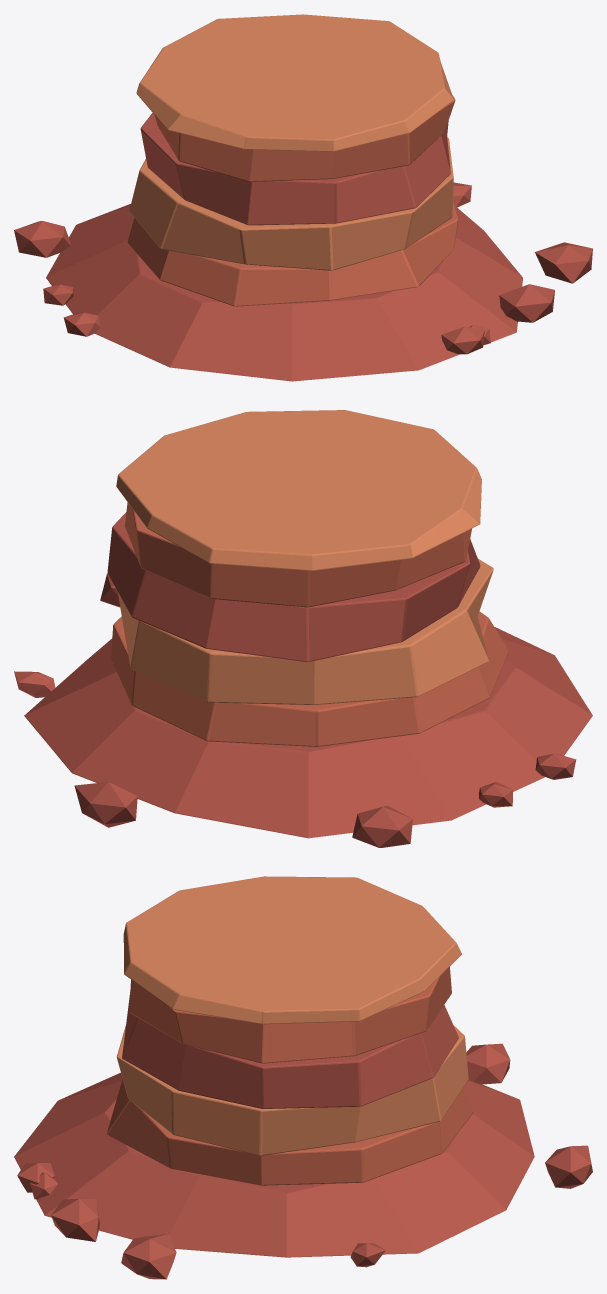
The model's file is mesa_a.glb.
3 views of the same model, one above another, from view 1: azimuth 30°, elevation 25°; view 2: azimuth 150°, elevation 25°; view 3: azimuth 270°, elevation 25° (orthographic). The views are drawn at different scales.
Parts seen in each view (by area): view 1: mesa_a_slope, mesa_a_cap, mesa_a_band1, mesa_a_band2, mesa_a_band0, mesa_a_band3, mesa_a_boulders; view 2: mesa_a_slope, mesa_a_cap, mesa_a_band1, mesa_a_band2, mesa_a_band0, mesa_a_band3, mesa_a_boulders; view 3: mesa_a_slope, mesa_a_cap, mesa_a_band2, mesa_a_band1, mesa_a_band0, mesa_a_band3, mesa_a_boulders.
Part boxes in pixels (box(x1,y1,x2,y2)): mesa_a_slope: box(46, 204, 522, 381); mesa_a_cap: box(136, 14, 453, 151); mesa_a_band1: box(129, 137, 453, 270); mesa_a_band2: box(140, 113, 450, 225); mesa_a_band0: box(127, 202, 458, 306); mesa_a_band3: box(154, 95, 455, 181); mesa_a_boulders: box(14, 182, 592, 354); mesa_a_slope: box(24, 627, 592, 838); mesa_a_cap: box(116, 410, 481, 570); mesa_a_band1: box(117, 559, 493, 704); mesa_a_band2: box(107, 512, 480, 662); mesa_a_band0: box(111, 611, 508, 746); mesa_a_band3: box(125, 502, 471, 607); mesa_a_boulders: box(14, 573, 576, 847); mesa_a_slope: box(14, 1072, 534, 1257); mesa_a_cap: box(123, 876, 461, 1024); mesa_a_band2: box(122, 990, 458, 1108); mesa_a_band1: box(116, 1025, 468, 1155); mesa_a_band0: box(107, 1079, 473, 1185); mesa_a_band3: box(129, 966, 451, 1063); mesa_a_boulders: box(17, 1043, 592, 1279).
Size of the model in its own units: 38.65 by 16.8 by 38.8.
